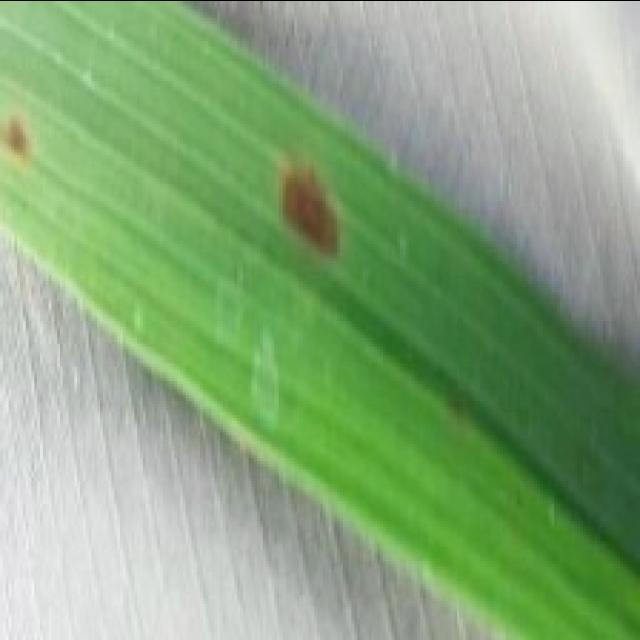Unhealthy: (257, 139, 359, 265), (7, 112, 41, 162)
